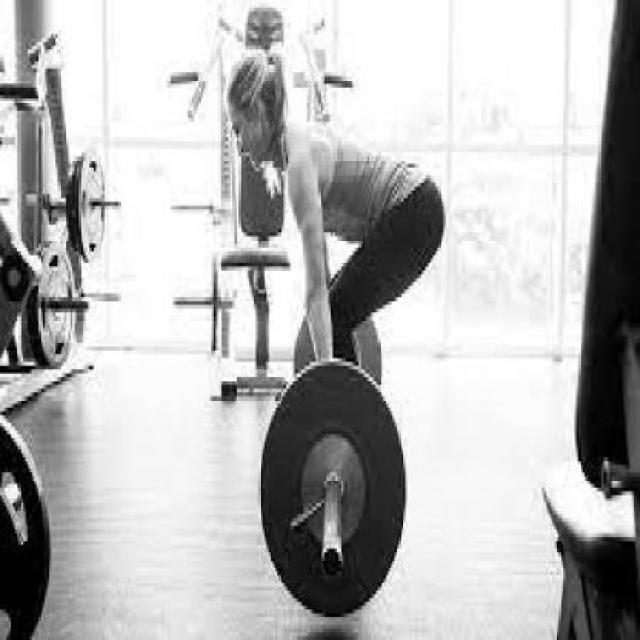barbell: (257, 355, 413, 622)
